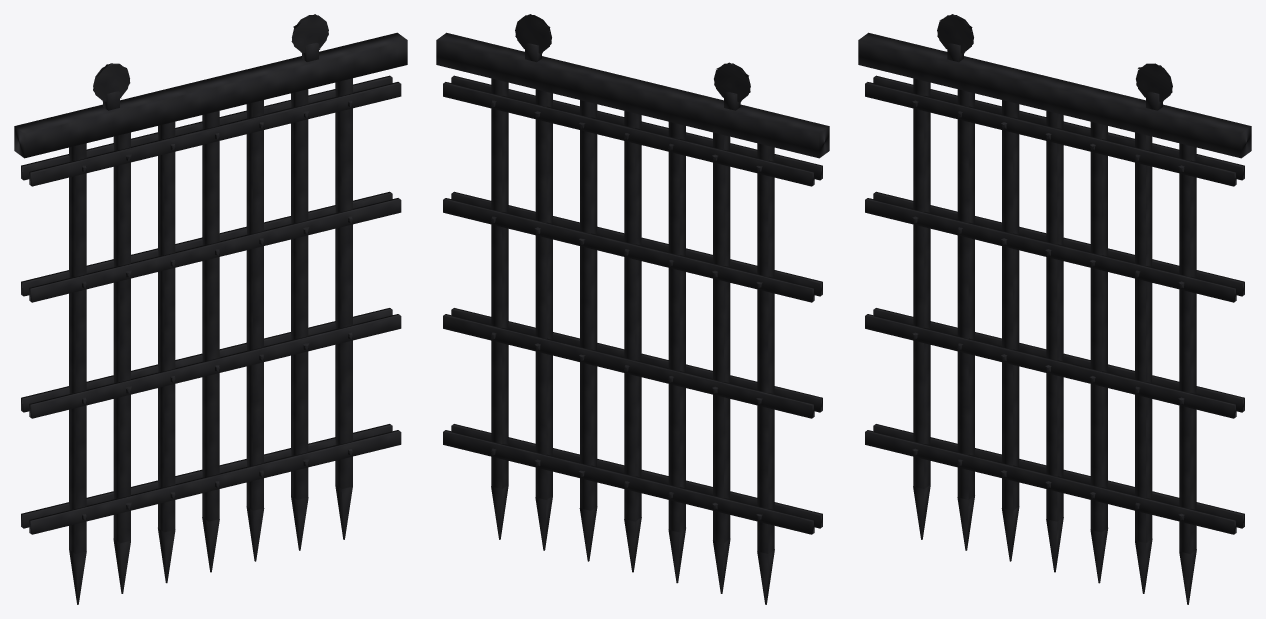
The model's file is Portcullis_HeavyIron_LOD2.glb.
The picture shows the model from 3 angles, left to right: view 1: azimuth 30°, elevation 25°; view 2: azimuth 150°, elevation 25°; view 3: azimuth 330°, elevation 25°; orthographic projection.
Parts seen in each view (by area): view 1: Portcullis_HeavyIron_LOD2; view 2: Portcullis_HeavyIron_LOD2; view 3: Portcullis_HeavyIron_LOD2.
Part boxes in pixels (<box>): Portcullis_HeavyIron_LOD2: <box>14,14,407,604</box>; Portcullis_HeavyIron_LOD2: <box>436,14,829,604</box>; Portcullis_HeavyIron_LOD2: <box>858,14,1251,604</box>.
Bounding box in the file's own units: 2.59 × 3.44 × 0.1817.
Materials: 1 (1 with a texture image).
